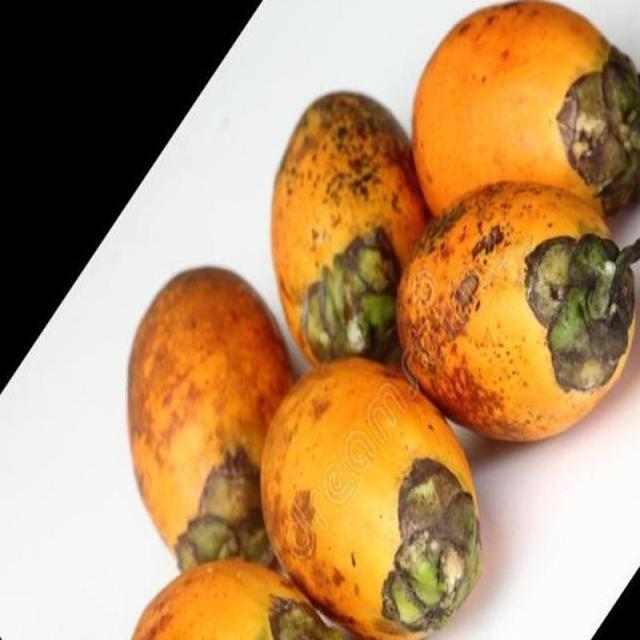good: (394, 180, 639, 444), (258, 359, 484, 639), (125, 267, 297, 569), (410, 0, 639, 219), (269, 91, 434, 369), (130, 561, 363, 639)
